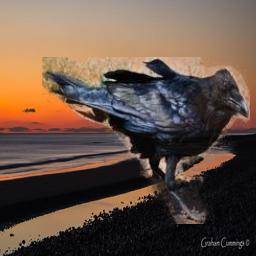Crow: (42, 57, 250, 224)
